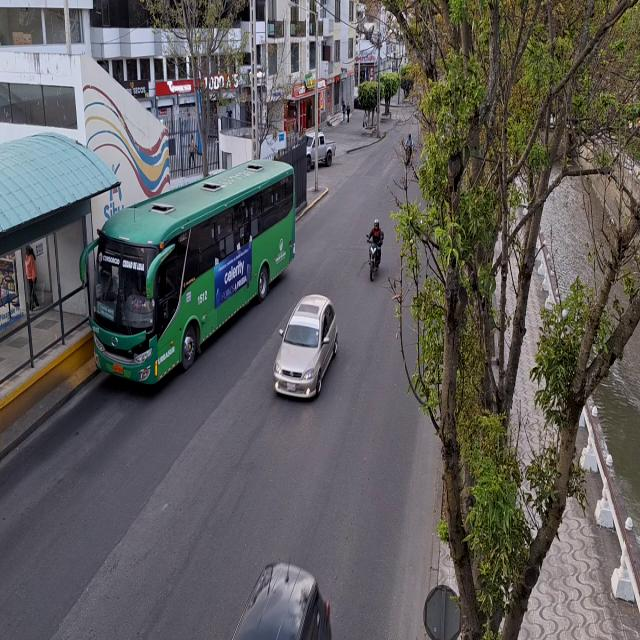BUS: (86, 163, 290, 394)
MOTORCYCLE: (366, 234, 383, 283)
SED: (272, 293, 339, 399)
